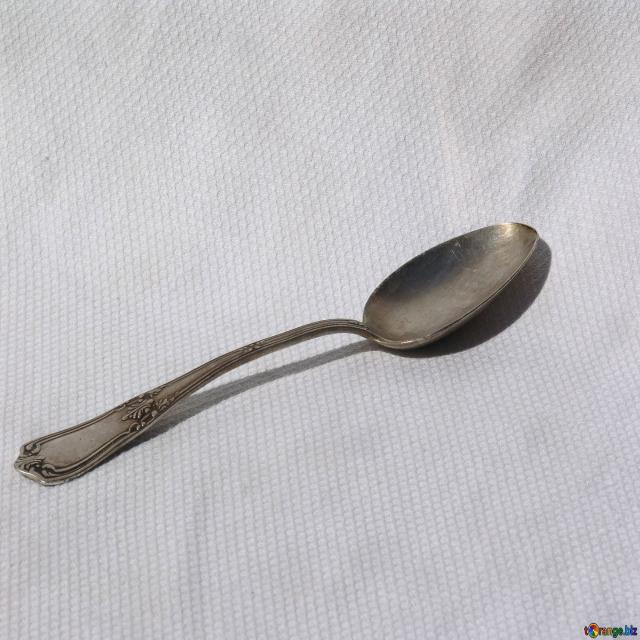spoon: (3, 203, 552, 504)
